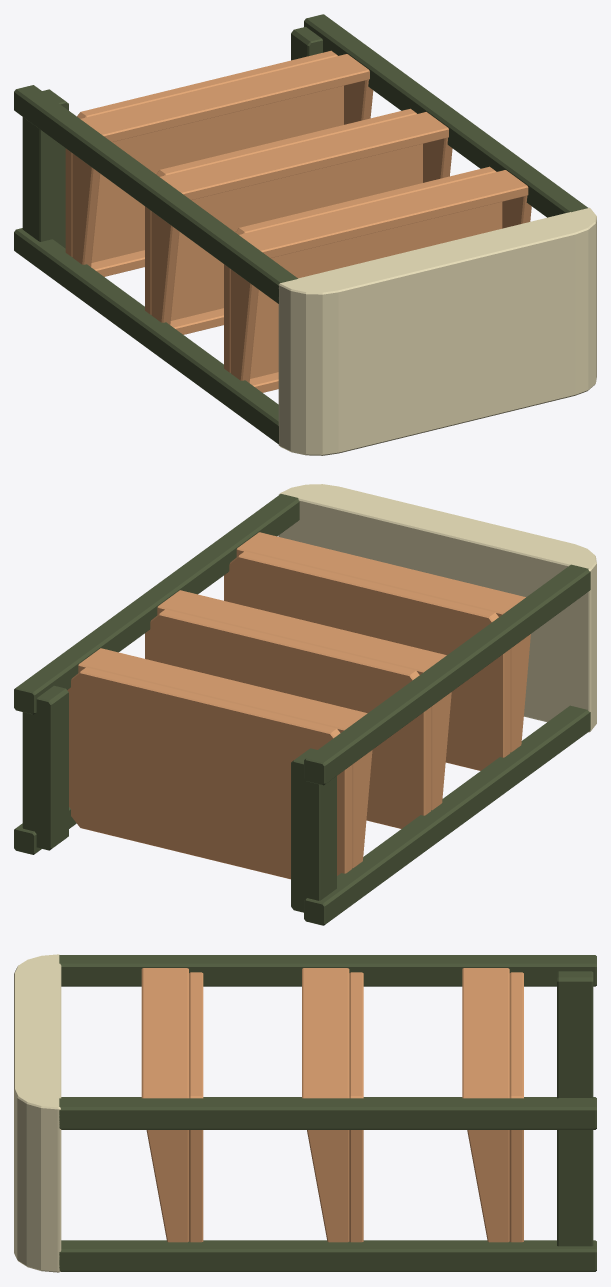
Rendered from fixture_05_bakery_rack.glb.
The picture shows the model from 3 angles, top to bottom: view 1: azimuth 30°, elevation 25°; view 2: azimuth 150°, elevation 25°; view 3: azimuth 270°, elevation 25°; orthographic projection.
Parts seen in each view (by area): view 1: fixture_05_bakery_rack; view 2: fixture_05_bakery_rack; view 3: fixture_05_bakery_rack.
Part boxes in pixels (bbox=[...]): fixture_05_bakery_rack: bbox=[14, 14, 596, 455]; fixture_05_bakery_rack: bbox=[14, 484, 596, 925]; fixture_05_bakery_rack: bbox=[14, 954, 596, 1272].
Size of what is drawn, in the model's own units: 1 by 0.5 by 1.6.
